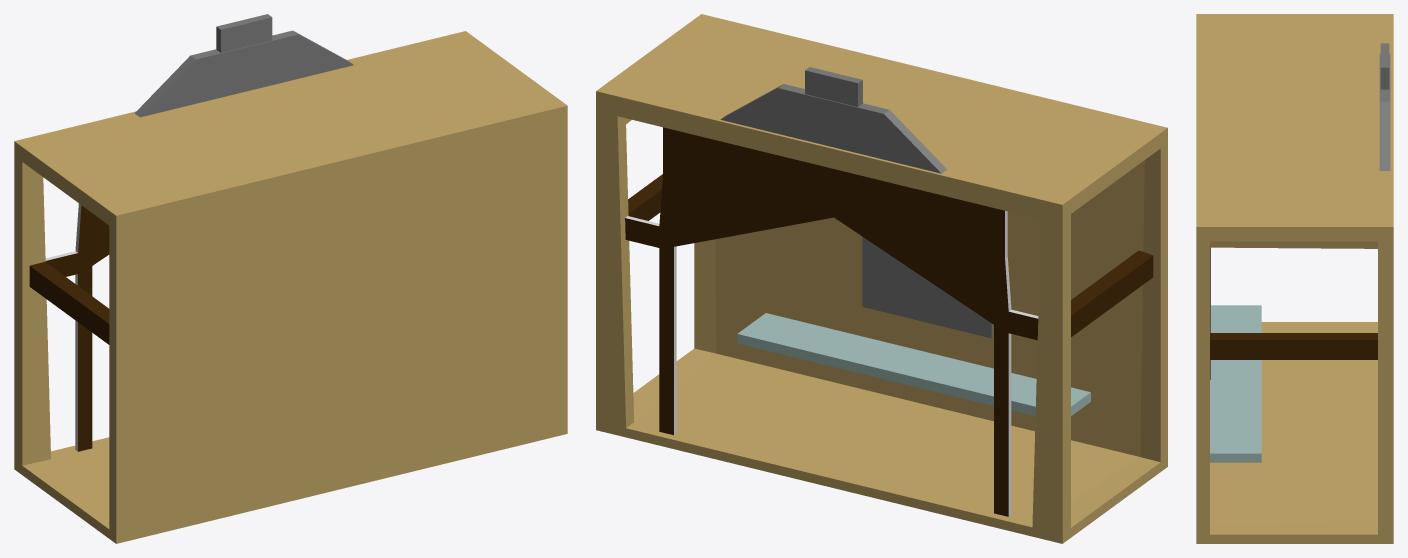
File: bus stop.fbx
3 renders of one model, left to right at view 1: azimuth 30°, elevation 25°; view 2: azimuth 150°, elevation 25°; view 3: azimuth 270°, elevation 25°, orthographic. The views are drawn at different scales.
Parts seen in each view (by area): view 1: bus stop; view 2: bus stop; view 3: bus stop.
Part boxes in pixels (left/top/right/bottom): bus stop: left=14, top=14, right=567, bottom=543; bus stop: left=596, top=14, right=1167, bottom=543; bus stop: left=1196, top=14, right=1393, bottom=543.
Bounding box in the file's own units: 1650 × 1381 × 646.
